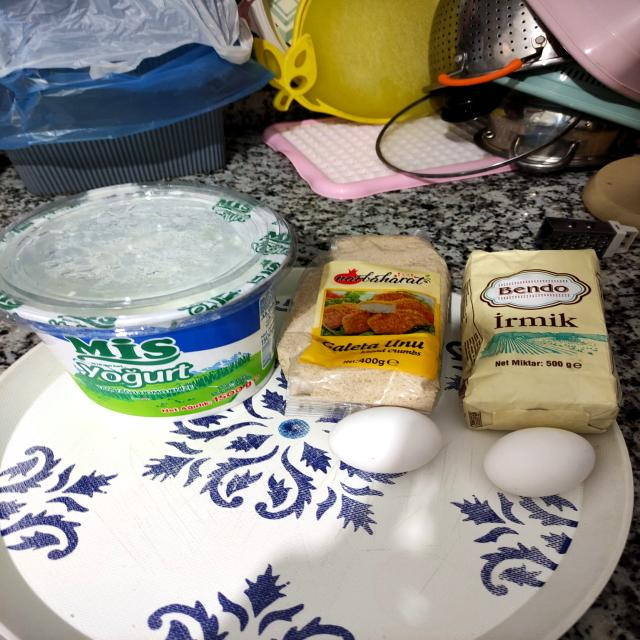egg: (473, 418, 605, 504), (315, 404, 458, 480)
yogurt: (0, 188, 297, 416)
